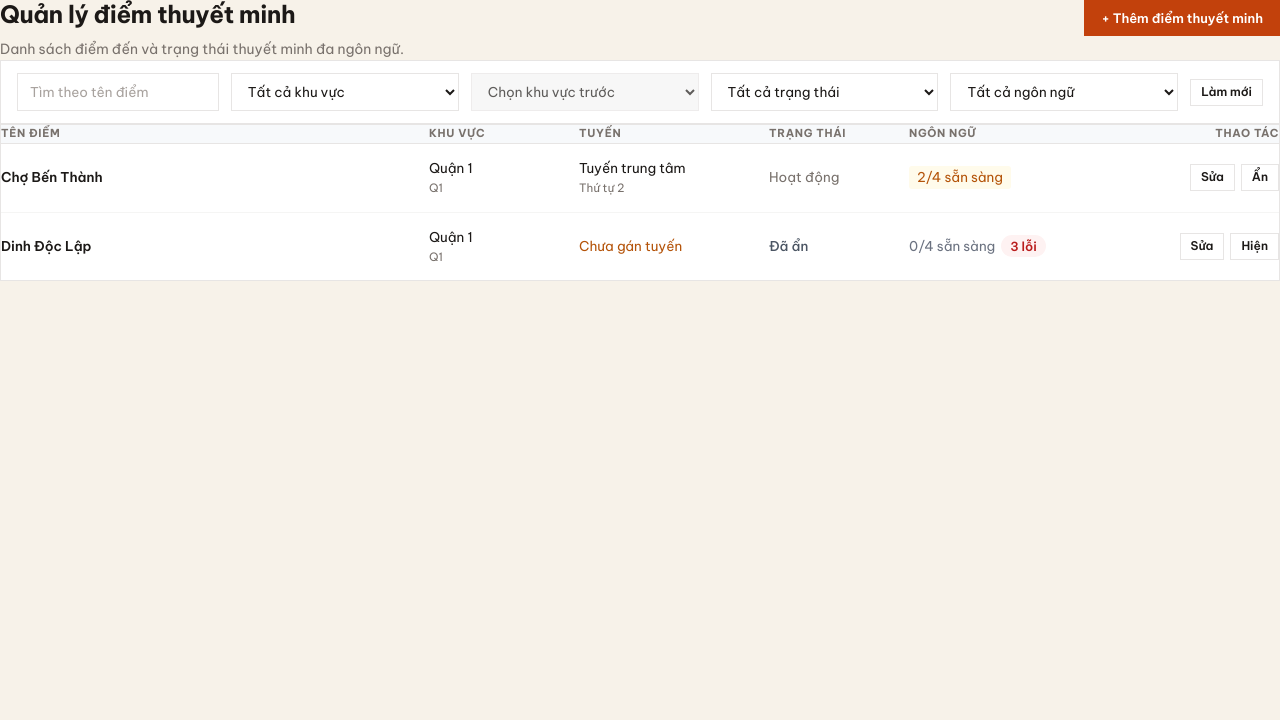
Test: PoiListPage › mở popover chi tiết thuyết minh theo ngôn ngữ bằng bấm và đóng bằng Esc
Expected: the link "Dinh Độc Lập" is shown, [1,236,92,254]
Click the button with aria-label "Xem trạng thái ngôn ngữ của Dinh Độc Lập" at (977, 246), box [909,235,1046,258]
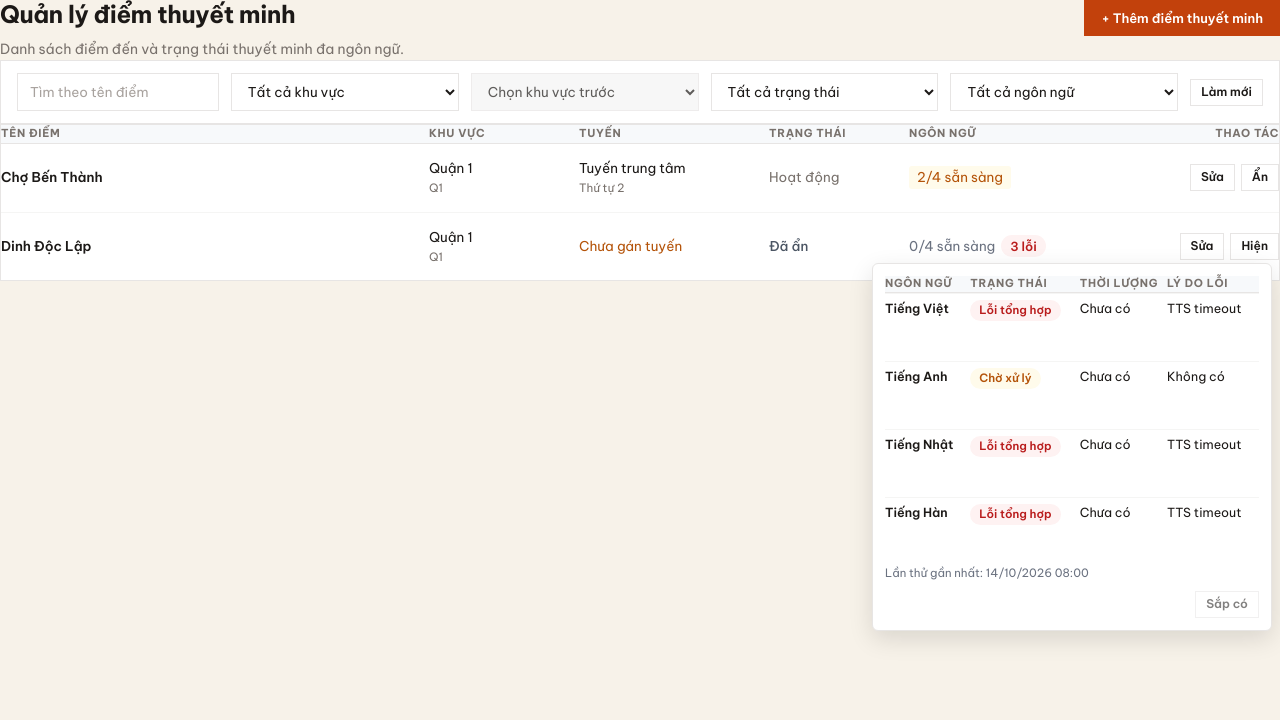
Expected: the text "Tiếng Việt" is shown, [885,293,970,361]
Expected: the text "Tiếng Anh" is shown, [885,361,970,429]
Expected: the text "Lỗi tổng hợp" is shown 3 times, [970,300,1061,321]; [970,436,1061,457]; [970,504,1061,525]
Press Escape in the button with aria-label "Xem trạng thái ngôn ngữ của Dinh Độc Lập", box [909,235,1046,258]
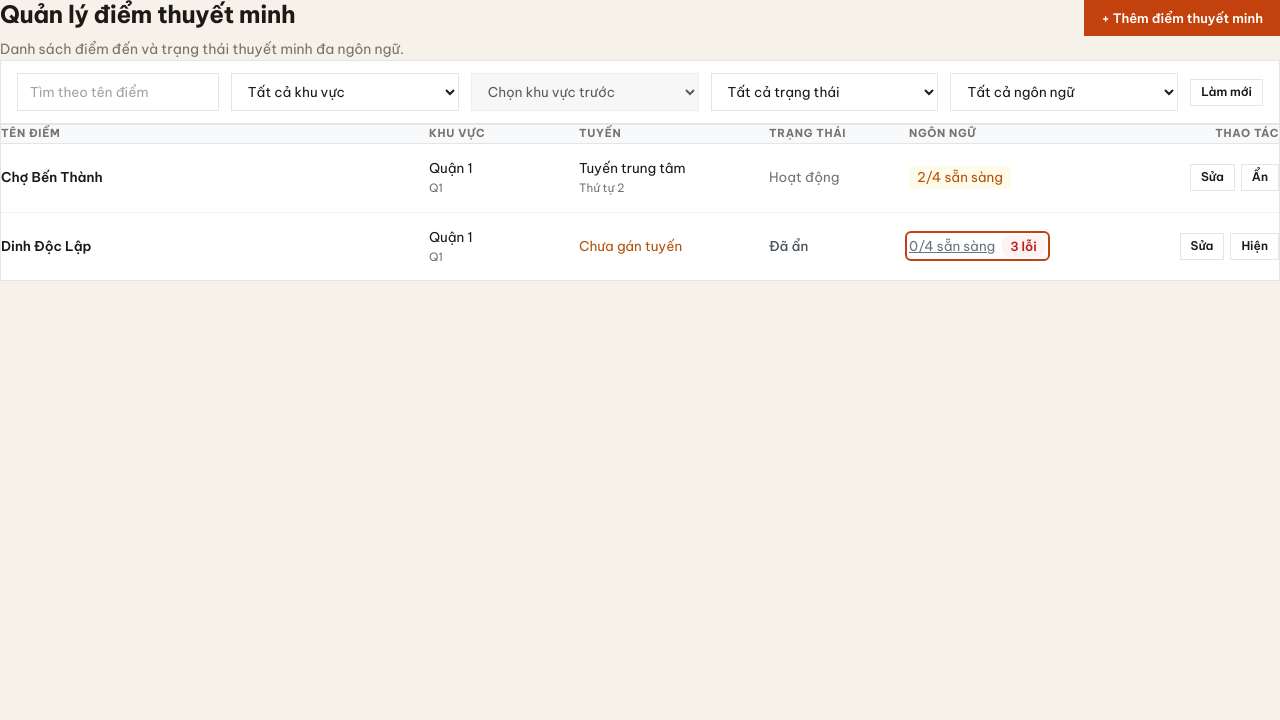
Expected: the dialog is gone
